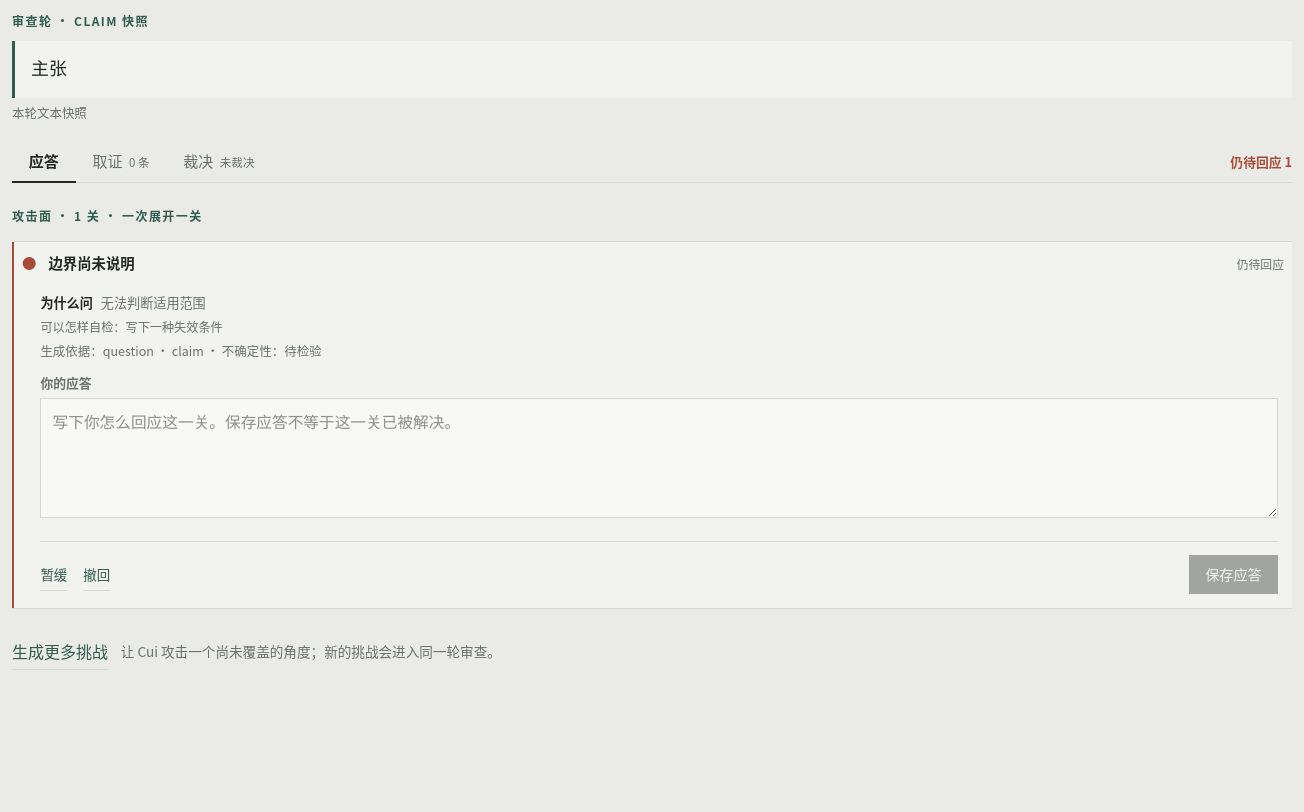
Test: ReviewRoundDesk review lifecycle › defers a challenge with a revisit condition and closes it
Expected: the text "边界尚未说明" is shown, [48,252,135,273]
Click the button "暂缓" at (54,575), box [40,558,67,591]
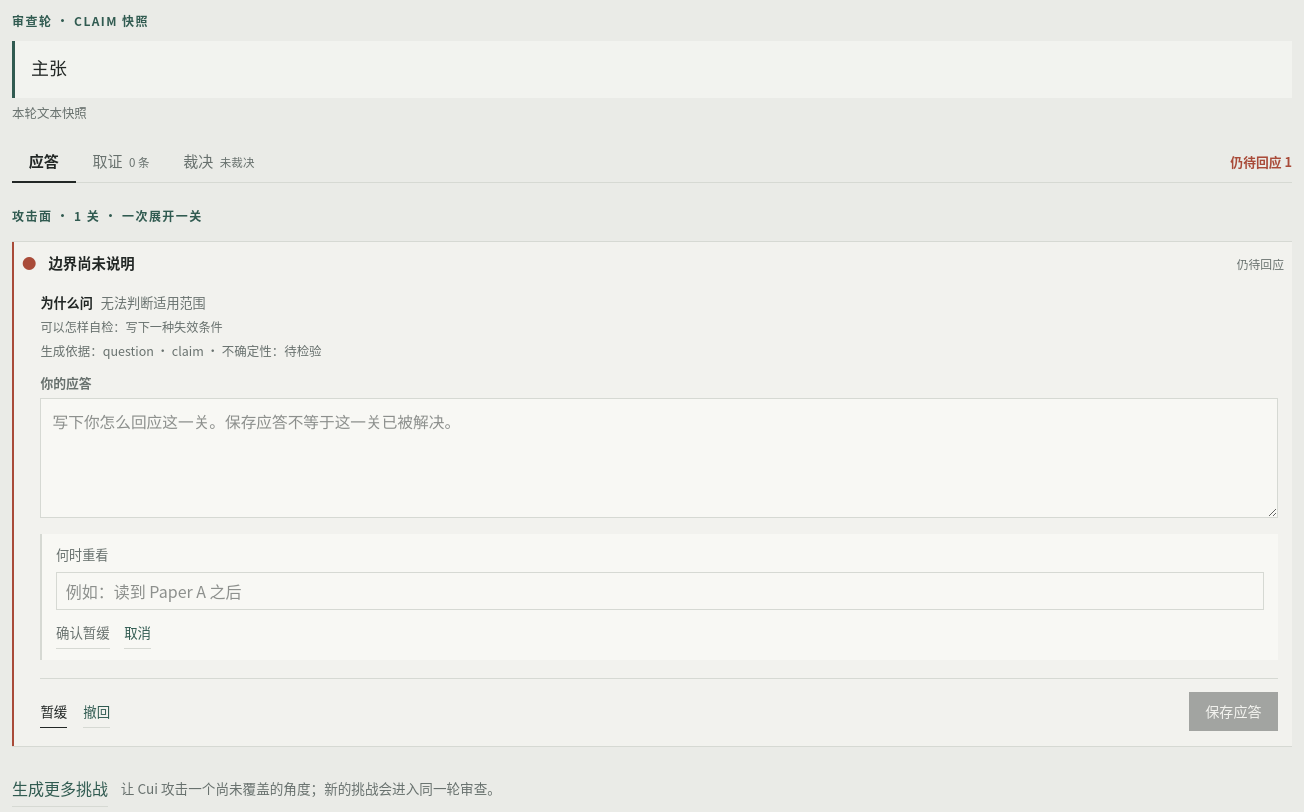
Type "读到 Paper A 之后" into the field labelled "何时重看" at (660,591), box [56,572,1264,610]
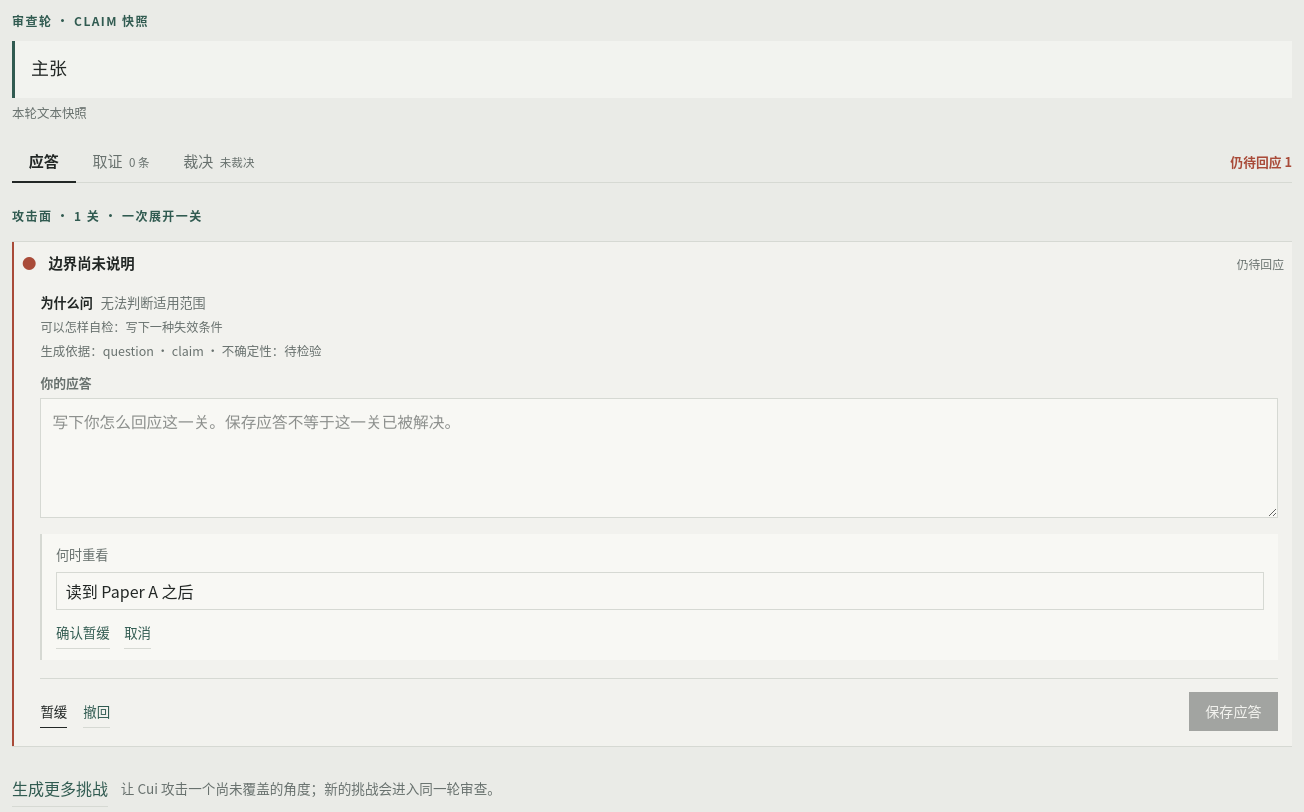
Click the button "确认暂缓" at (83,633), box [56,617,110,649]
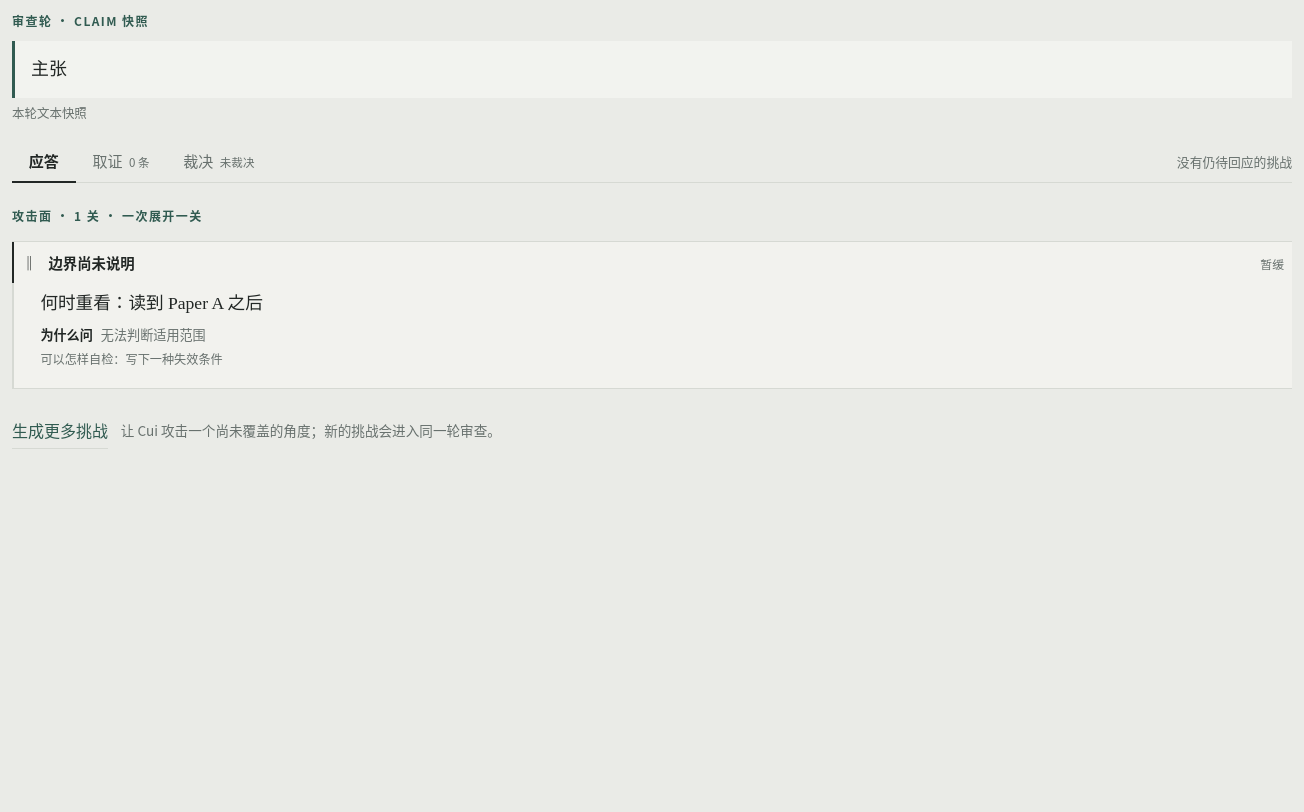
Now the text "何时重看：读到 Paper A 之后" is shown, box [40,293,263,313]
Now the label labelled "你的应答" is gone
